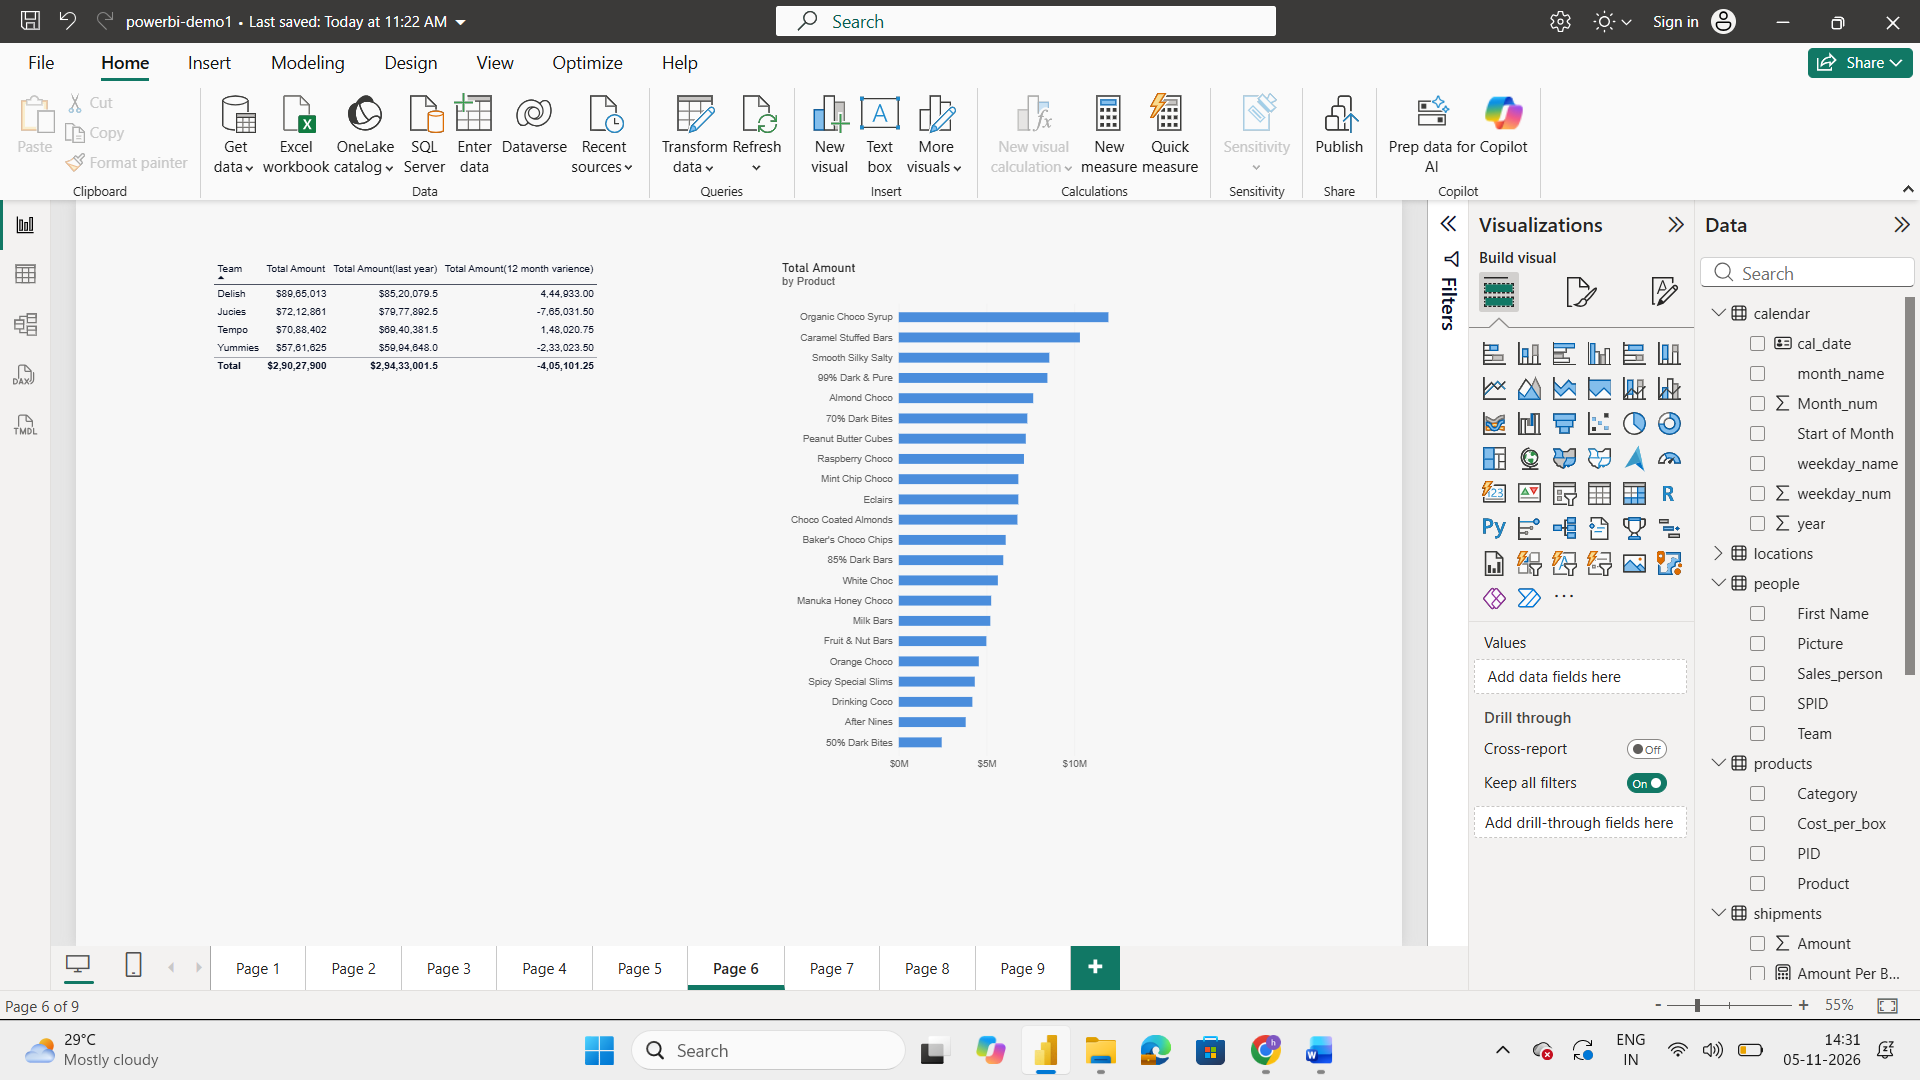

The page's visual inventory and layout, read from the dashboard file:
{"tool":"powerbi","page":{"name":"Page 6","canvas":[1920,1080],"ordinal":5},"visuals":[{"type":"tableEx","fields":{"Values":["people.Team","shipments.Total Amount","shipments.Total Amount(last year)","shipments.Total Amount(12 month varience)"]},"box":[182,72,660,246],"z":0},{"type":"clusteredBarChart","fields":{"Category":["products.Product"],"Y":["shipments.Total Amount"]},"box":[1006,72,524,772],"z":1000}]}

Visuals, with their boxes on the page's 1920x1080 design canvas (x1, y1, x2, y2). These are canvas units, not pixel positions in the 1920x1080 screenshot, which may show the page scaled, cropped or inside an application window:
tableEx - people.Team x shipments.Total Amount: x1=182 y1=72 x2=842 y2=318
clusteredBarChart - products.Product x shipments.Total Amount: x1=1006 y1=72 x2=1530 y2=844
